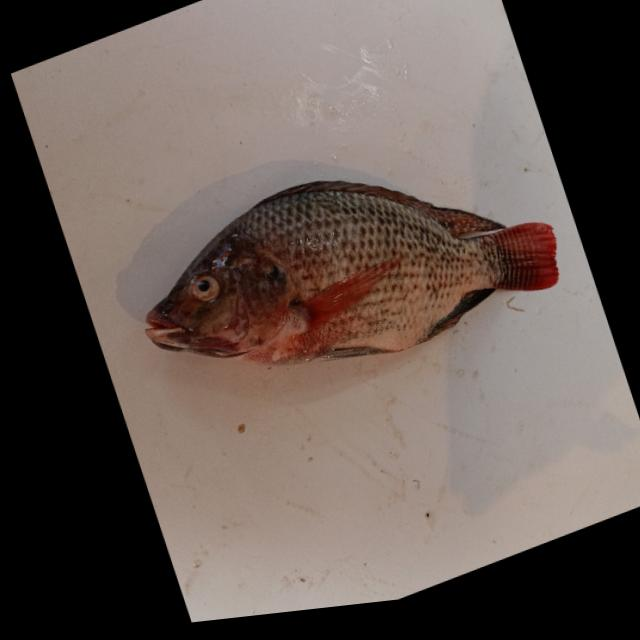Tilapia: (110, 98, 574, 444)
